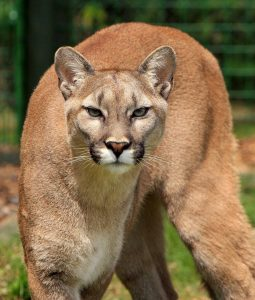OncaParda: (14, 18, 250, 298)
